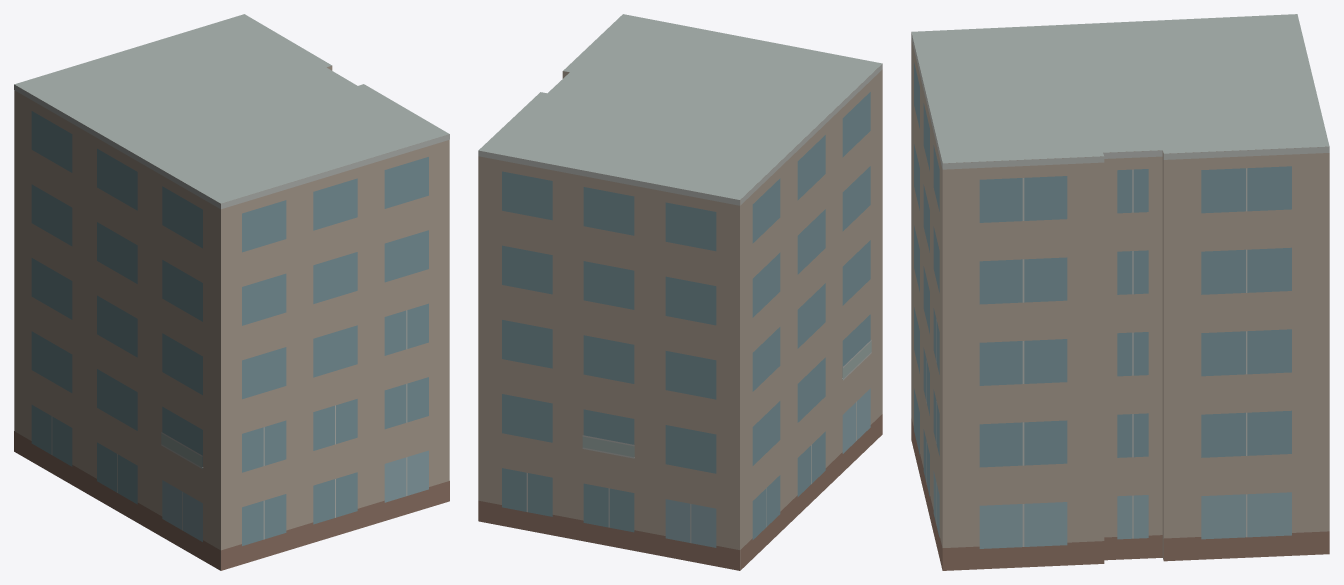
File: survey-upis-32670648.glb
3 renders of one model, left to right at view 1: azimuth 30°, elevation 25°; view 2: azimuth 150°, elevation 25°; view 3: azimuth 270°, elevation 25°, orthographic. The views are drawn at different scales.
Parts seen in each view (by area): view 1: survey-upis-32670648.tmp; view 2: survey-upis-32670648.tmp; view 3: survey-upis-32670648.tmp.
Part boxes in pixels (x1,y1,x2,y2): survey-upis-32670648.tmp: [14, 14, 449, 570]; survey-upis-32670648.tmp: [478, 14, 882, 570]; survey-upis-32670648.tmp: [911, 14, 1329, 570].
Bounding box in the file's own units: 12.43 × 15.8 × 14.71.
